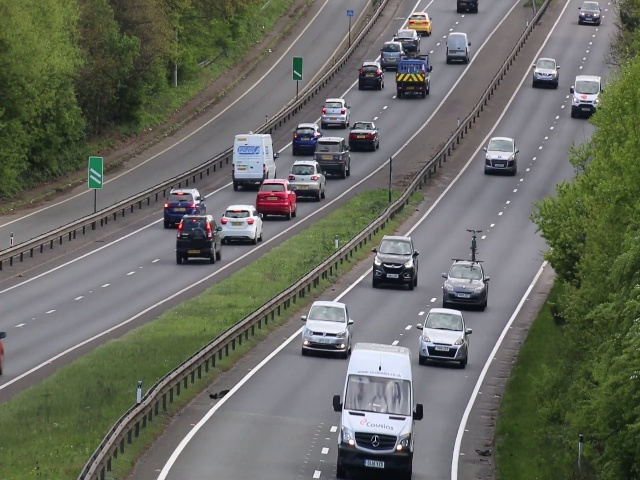car: (338, 341, 415, 480), (418, 305, 468, 372), (299, 299, 350, 356), (229, 133, 279, 191), (372, 232, 420, 289), (442, 256, 489, 313), (174, 214, 221, 268), (219, 203, 264, 247), (288, 154, 327, 202), (163, 183, 205, 227), (395, 53, 435, 98), (256, 179, 297, 220), (313, 138, 351, 177), (484, 133, 517, 177), (570, 72, 599, 118), (346, 117, 379, 150), (292, 121, 321, 158), (320, 94, 350, 128), (445, 31, 474, 65), (532, 53, 557, 88), (357, 60, 384, 92), (575, 1, 603, 27), (409, 11, 433, 37), (379, 41, 403, 65), (395, 30, 420, 52)
